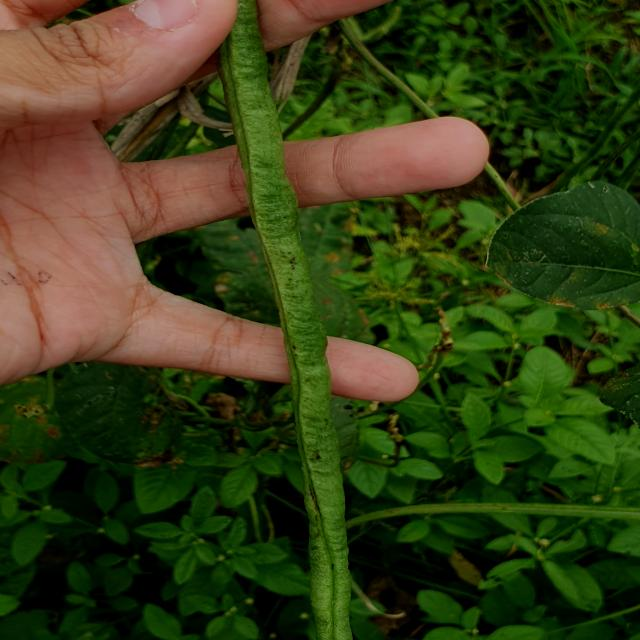sitaw-healthy: (219, 0, 352, 640)
